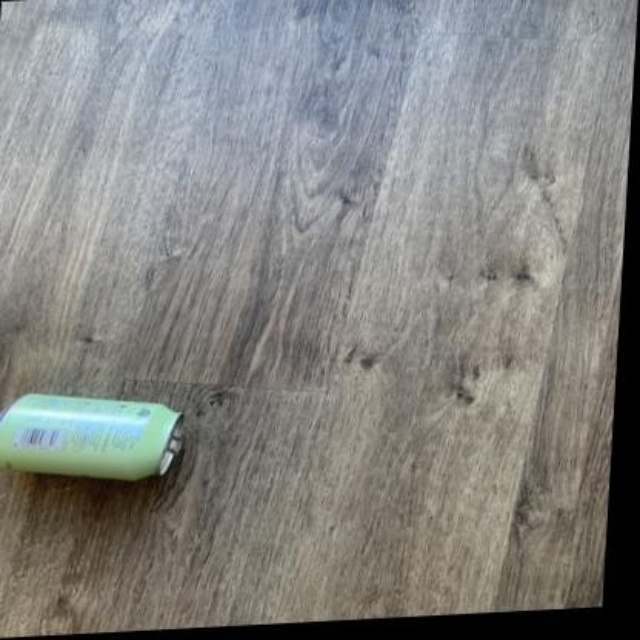trash: (0, 394, 180, 478)
